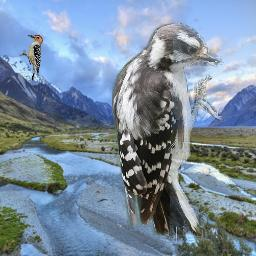Woodpecker: (112, 23, 224, 242), (19, 35, 43, 81)
